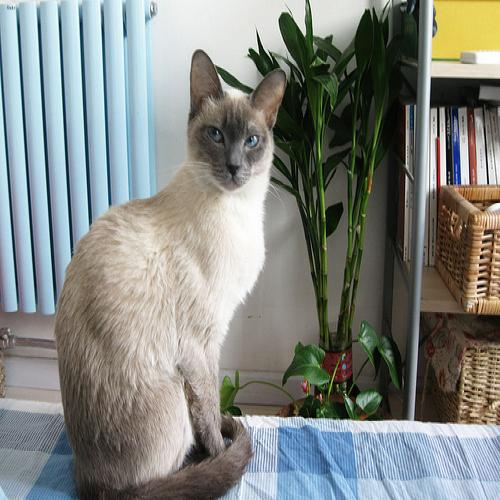siamese: (181, 38, 295, 206)
